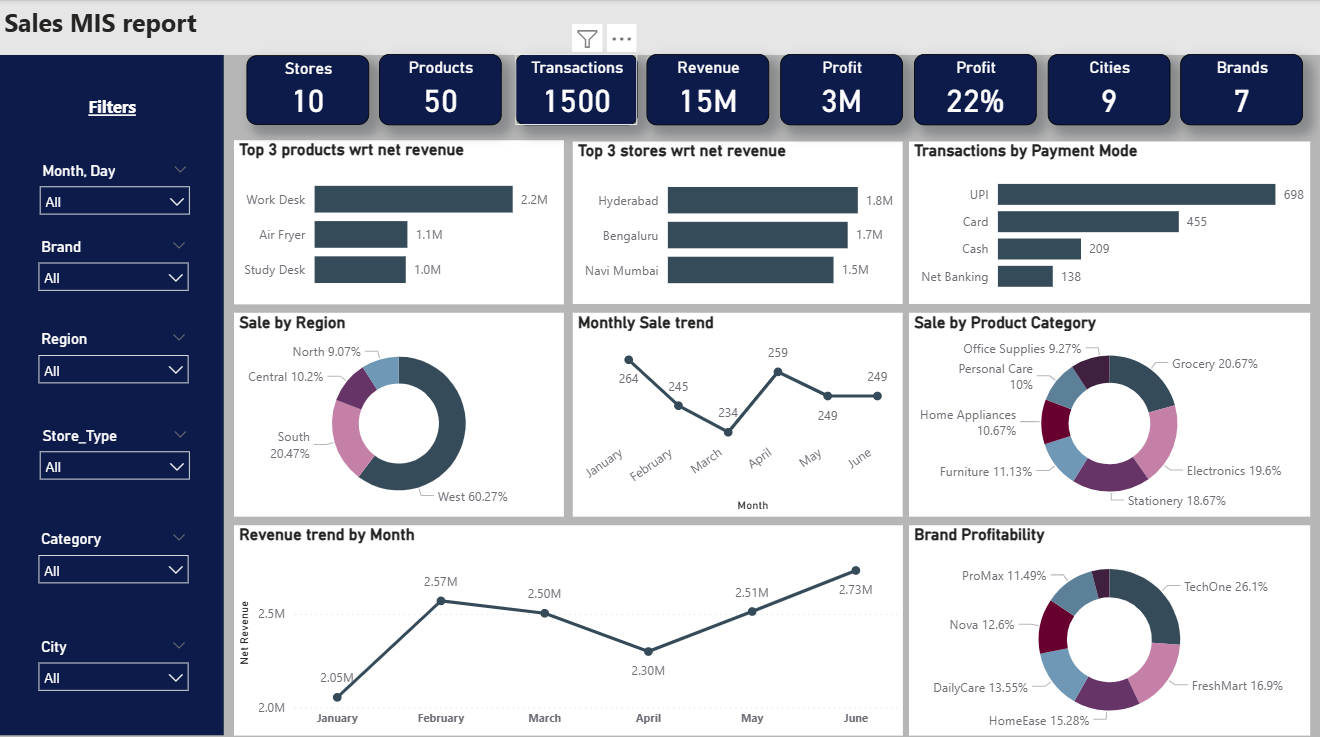

The page's visual inventory and layout, read from the dashboard file:
{"tool":"powerbi","page":{"name":"Page 1","canvas":[1280,720],"ordinal":0},"visuals":[{"type":"shape","box":[0,53.1,217.2,658.7],"z":0},{"type":"clusteredBarChart","title":"Top 3 products wrt net revenue","fields":{"Category":["Sales_stores.Product_Name"],"Y":["Sum(Sales_stores.Net Revenue)"]},"box":[226.8,136.3,318.5,158],"z":1000},{"type":"clusteredBarChart","title":"Top 3 stores wrt net revenue","fields":{"Category":["Sales_stores.City"],"Y":["Sum(Sales_stores.Net Revenue)"]},"box":[553.8,137.5,318.5,156.8],"z":2000},{"type":"textbox","box":[0,1.2,1280,53.1],"z":3000},{"type":"slicer","fields":{"Values":["Sales_stores.Date.Variation.Date Hierarchy.Month","Sales_stores.Date.Variation.Date Hierarchy.Day"]},"box":[29,152,165.3,73.6],"z":4000},{"type":"card","title":"Revenue","fields":{"Values":["Sum(Sales_stores.Net Revenue)"]},"box":[624.9,53.1,118.2,68.8],"z":5000},{"type":"slicer","fields":{"Values":["Sales_stores.Region"]},"box":[28,314.9,165.3,73.6],"z":6000},{"type":"slicer","fields":{"Values":["Sales_stores.Brand"]},"box":[28,225.6,165.3,73.6],"z":7000},{"type":"slicer","fields":{"Values":["Sales_stores.Store_Type"]},"box":[29.2,407.8,165.3,73.6],"z":8000},{"type":"card","title":"Profit","fields":{"Values":["Sum(Sales_stores.Profit)"]},"box":[754,53.1,118.2,68.8],"z":9000},{"type":"card","title":"Cities","fields":{"Values":["Count(Sales_stores.City)"]},"box":[1012.2,53.1,118.2,68.8],"z":10000},{"type":"card","title":"Brands","fields":{"Values":["Count(Sales_stores.Brand)"]},"box":[1140.1,53.1,118.2,68.8],"z":11000},{"type":"donutChart","title":"Sale by Product Category","fields":{"Category":["Sales_stores.Category"],"Y":["CountNonNull(Sales_stores.Sale_ID)"]},"box":[878.3,302.8,387.3,196.6],"z":12000},{"type":"slicer","fields":{"Values":["Sales_stores.Category"]},"box":[28,507.9,165.3,73.6],"z":13000},{"type":"slicer","fields":{"Values":["Sales_stores.City"]},"box":[28,611.7,165.3,73.6],"z":14000},{"type":"textbox","box":[10.9,88.1,196.6,33.8],"z":15000},{"type":"card","title":"Profit","fields":{"Values":["Sales_stores.Profit Margin %"]},"box":[883.1,53.1,118.2,68.8],"z":16000},{"type":"card","title":"Stores","fields":{"Values":["Count(Products_Inventory_Stores.Store_ID)"]},"box":[238.9,54.3,118.2,67.6],"z":17000},{"type":"card","title":"Products","fields":{"Values":["Count(Products_Inventory_Stores.Product_ID)"]},"box":[366.8,53.1,118.2,68.8],"z":18000},{"type":"card","title":"Transactions","fields":{"Values":["Count(Sales_stores.Sale_ID)"]},"box":[498.3,53.1,118.2,68.8],"z":19000},{"type":"lineChart","title":"Revenue trend by Month","fields":{"Category":["Sales_stores.Date.Variation.Date Hierarchy.Month"],"Y":["Sum(Sales_stores.Net Revenue)"]},"box":[226.8,507.9,645.4,203.9],"z":20000},{"type":"clusteredBarChart","title":"Transactions by Payment Mode","fields":{"Category":["Sales_stores.Payment_Mode"],"Y":["CountNonNull(Sales_stores.Sale_ID)"]},"box":[878.3,137.5,387.3,156.8],"z":21000},{"type":"donutChart","title":"Brand Profitability","fields":{"Category":["Sales_stores.Brand"],"Y":["Sum(Sales_stores.Profit)"]},"box":[878.3,507.9,387.3,203.9],"z":21001},{"type":"donutChart","title":"Sale by Region","fields":{"Y":["CountNonNull(Sales_stores.Sale_ID)"],"Category":["Sales_stores.Region"]},"box":[226.8,302.8,318.5,196.6],"z":21002},{"type":"lineChart","title":"Monthly Sale trend","fields":{"Category":["Sales_stores.Date - Copy.Variation.Date Hierarchy.Month"],"Y":["CountNonNull(Sales_stores.Sale_ID)"]},"box":[553.8,302.8,318.5,196.6],"z":21003}]}

Visuals, with their boxes in screenshot pixels (x1, y1, x2, y2), scaled from the page's 1280x720 canvas onto the 1320x737 screenshot:
shape: rect(0, 54, 224, 729)
"Top 3 products wrt net revenue" clusteredBarChart: rect(234, 140, 562, 301)
"Top 3 stores wrt net revenue" clusteredBarChart: rect(571, 141, 900, 301)
textbox: rect(0, 1, 1319, 56)
slicer - Sales_stores.Date.Variation.Date Hierarchy.Month x Sales_stores.Date.Variation.Date Hierarchy.Day: rect(30, 156, 200, 231)
"Revenue" card: rect(644, 54, 766, 125)
slicer - Sales_stores.Region: rect(29, 322, 199, 398)
slicer - Sales_stores.Brand: rect(29, 231, 199, 306)
slicer - Sales_stores.Store_Type: rect(30, 417, 201, 493)
"Profit" card: rect(778, 54, 899, 125)
"Cities" card: rect(1044, 54, 1166, 125)
"Brands" card: rect(1176, 54, 1298, 125)
"Sale by Product Category" donutChart: rect(906, 310, 1305, 511)
slicer - Sales_stores.Category: rect(29, 520, 199, 595)
slicer - Sales_stores.City: rect(29, 626, 199, 701)
textbox: rect(11, 90, 214, 125)
"Profit" card: rect(911, 54, 1033, 125)
"Stores" card: rect(246, 56, 368, 125)
"Products" card: rect(378, 54, 500, 125)
"Transactions" card: rect(514, 54, 636, 125)
"Revenue trend by Month" lineChart: rect(234, 520, 899, 729)
"Transactions by Payment Mode" clusteredBarChart: rect(906, 141, 1305, 301)
"Brand Profitability" donutChart: rect(906, 520, 1305, 729)
"Sale by Region" donutChart: rect(234, 310, 562, 511)
"Monthly Sale trend" lineChart: rect(571, 310, 900, 511)
